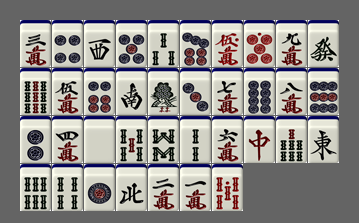0m: (212, 20, 243, 67)
0p: (244, 20, 275, 67)
0s: (212, 164, 243, 211)
1m: (180, 164, 211, 211)
1p: (84, 164, 115, 211)
1s: (148, 68, 179, 115)
1z: (308, 116, 339, 163)
2m: (148, 164, 179, 211)
2p: (20, 116, 51, 163)
2s: (180, 116, 211, 163)
2z: (116, 68, 147, 115)
3m: (20, 20, 51, 67)
3p: (180, 68, 211, 115)
3s: (148, 20, 179, 67)
3z: (84, 20, 115, 67)
4m: (52, 116, 83, 163)
4p: (52, 20, 83, 67)
4s: (52, 164, 83, 211)
4z: (116, 164, 147, 211)
5m: (52, 68, 83, 115)
5p: (116, 20, 147, 67)
5s: (116, 116, 147, 163)
5z: (84, 116, 115, 163)
6m: (212, 116, 243, 163)
6p: (84, 68, 115, 115)
6s: (20, 164, 51, 211)
6z: (308, 20, 339, 67)
7m: (212, 68, 243, 115)
7p: (180, 20, 211, 67)
7s: (276, 116, 307, 163)
7z: (244, 116, 275, 163)
8m: (276, 68, 307, 115)
8p: (244, 68, 275, 115)
8s: (148, 116, 179, 163)
9m: (276, 20, 307, 67)
9p: (308, 68, 339, 115)
9s: (20, 68, 51, 115)
